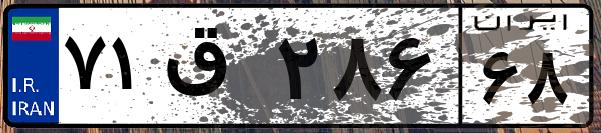1: (110, 28, 158, 98)
2: (270, 28, 330, 110)
6: (385, 28, 445, 110), (475, 38, 525, 113)
7: (57, 26, 110, 100)
8: (330, 28, 385, 110), (525, 38, 570, 115)
ق: (158, 20, 270, 120)
